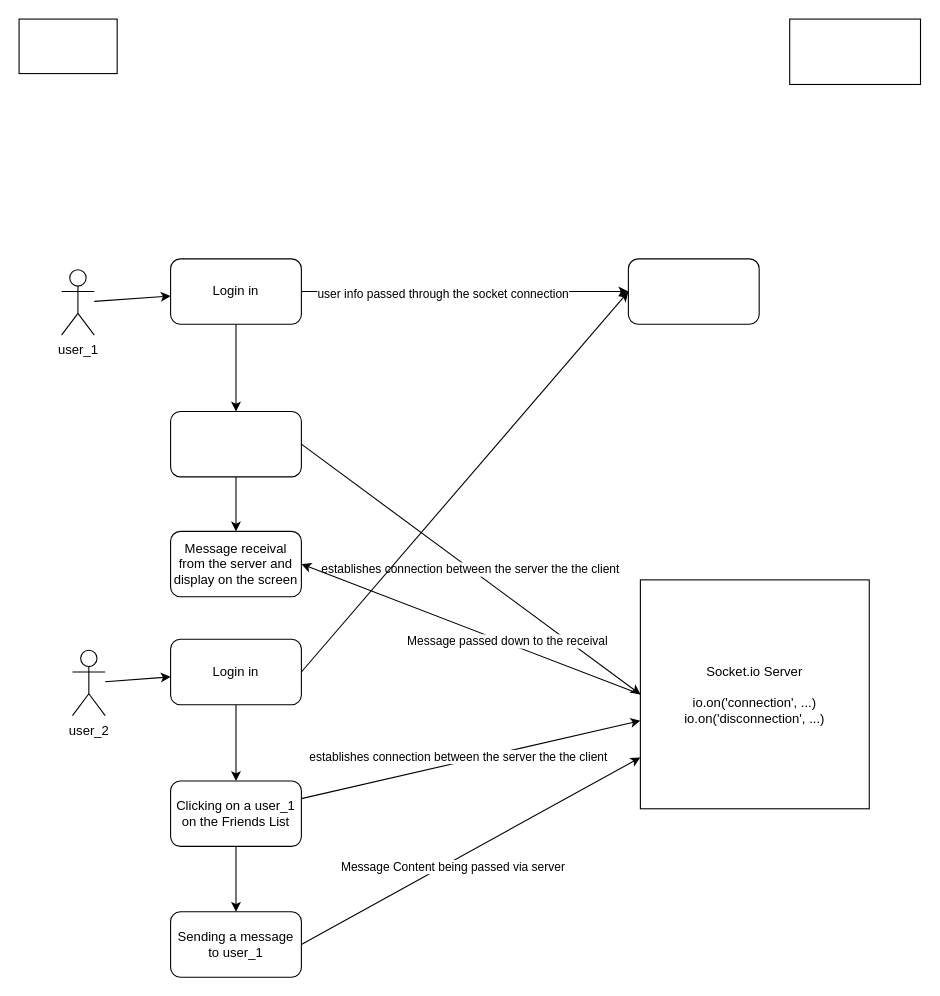
The diagram is 940 pixels wide and 996 high, and some of its shapes have lost their labels. The shapes that lost their labels are listed below. From the top down, each one's box as (x1, y1, x2, y2) in pixels, then its label:
(18, 18, 117, 74): Client side
(789, 18, 921, 84): Sever side
(627, 258, 759, 324): Store user info & session id in persistent data-store
(169, 410, 301, 477): Clicking on a user_2 on the Friends List
